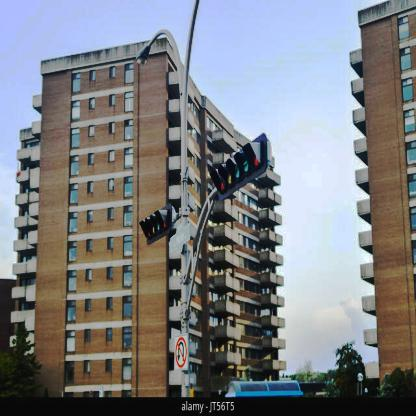No U-turn: (176, 332, 188, 372)
